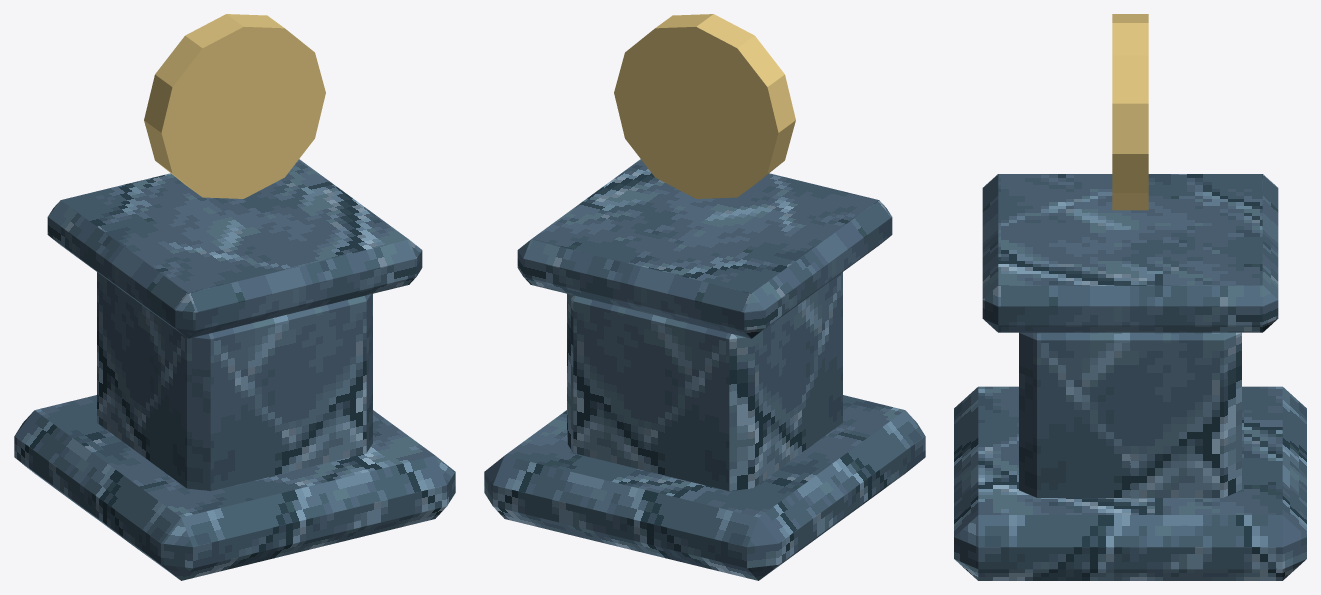
File: pilar_galeao.fbx
3 views of the same model, side by side, from view 1: azimuth 30°, elevation 25°; view 2: azimuth 150°, elevation 25°; view 3: azimuth 270°, elevation 25° (orthographic). The views are drawn at different scales.
Parts seen in each view (by area): view 1: neve_pilar_galeao; view 2: neve_pilar_galeao; view 3: neve_pilar_galeao.
Part boxes in pixels (<box>): neve_pilar_galeao: <box>14,14,455,580</box>; neve_pilar_galeao: <box>484,14,925,580</box>; neve_pilar_galeao: <box>954,14,1306,580</box>.
Bounding box in the file's own units: 68 × 105 × 68.
Materials: 2 (1 with a texture image).
